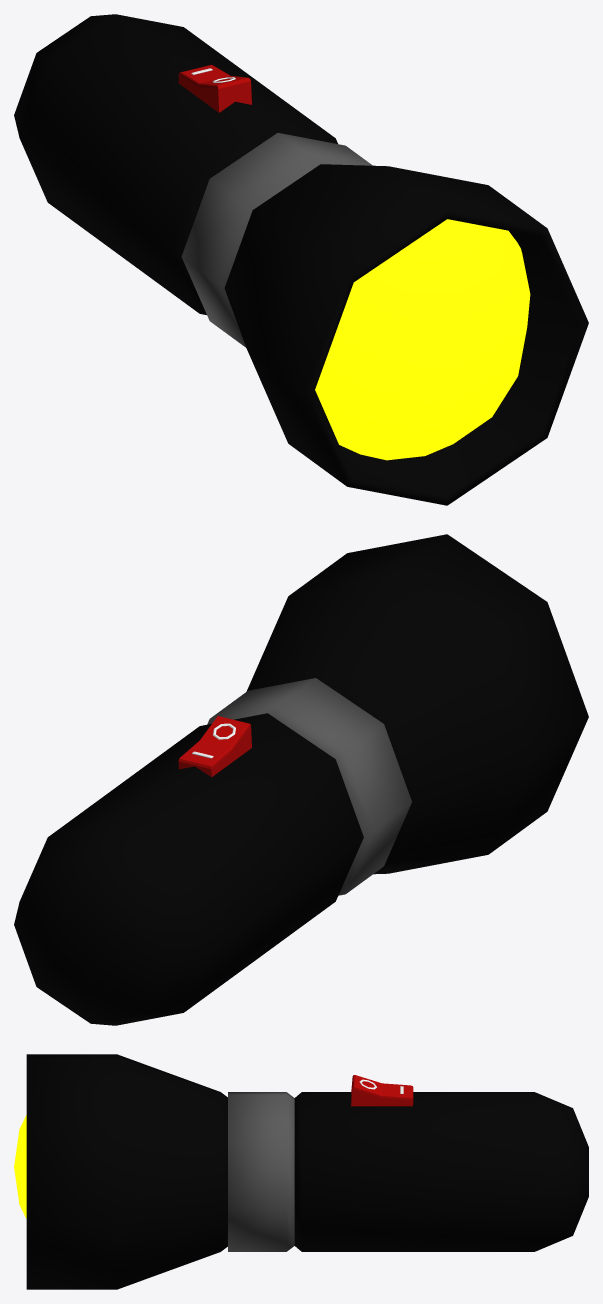
The model's file is flashlight_model.fbx.
The picture shows the model from 3 angles, top to bottom: view 1: azimuth 30°, elevation 25°; view 2: azimuth 150°, elevation 25°; view 3: azimuth 270°, elevation 25°; orthographic projection. The views are drawn at different scales.
Parts seen in each view (by area): view 1: Cylinder; view 2: Cylinder; view 3: Cylinder.
Boxes of the visible parts, box(x1,y1,x2,y2) form: Cylinder: box(14, 14, 588, 505); Cylinder: box(14, 534, 588, 1025); Cylinder: box(14, 1054, 588, 1289).
Size of the model in its own units: 29.66 by 29.66 by 68.04.
